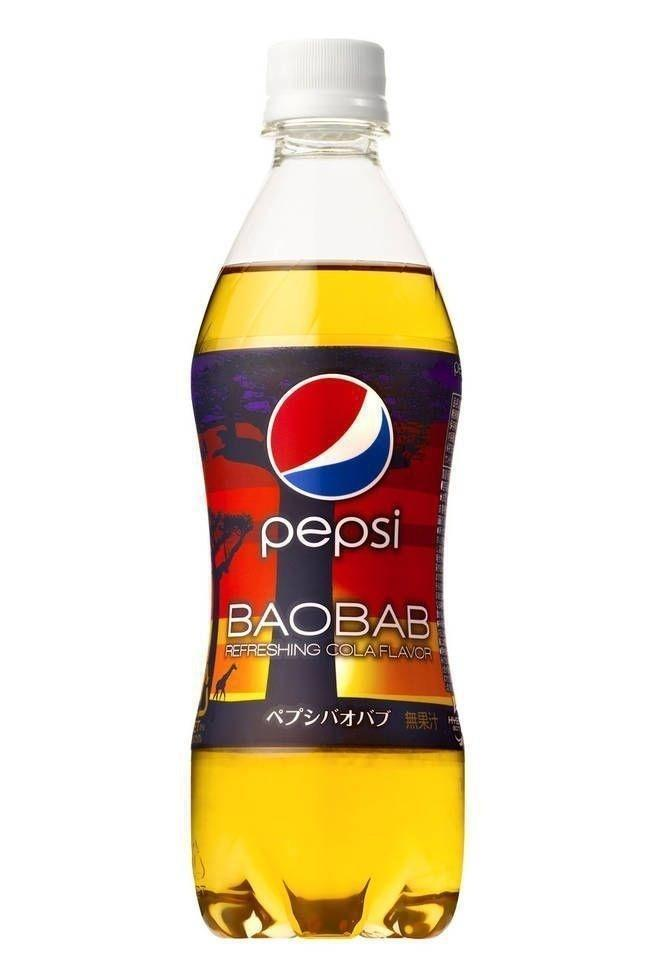bottle-plastic: (178, 25, 472, 952)
